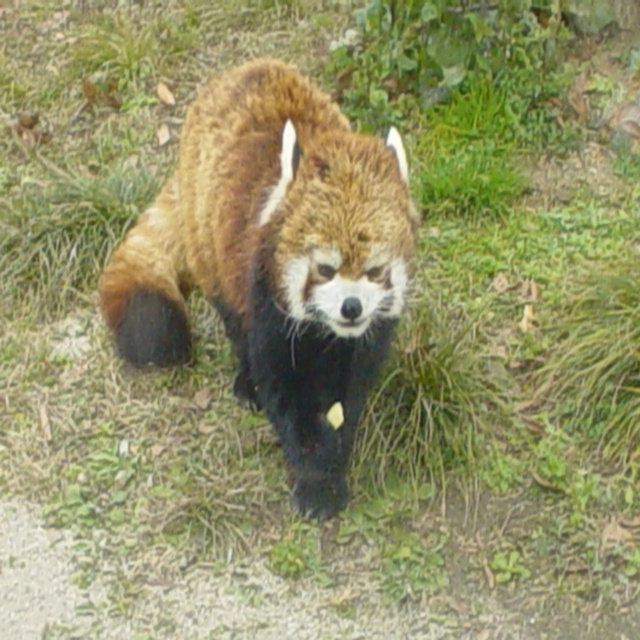Red panda: (96, 56, 421, 524)
